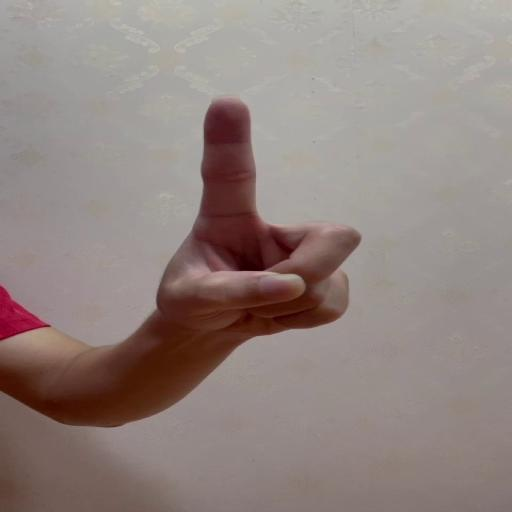point: (187, 93, 364, 333)
